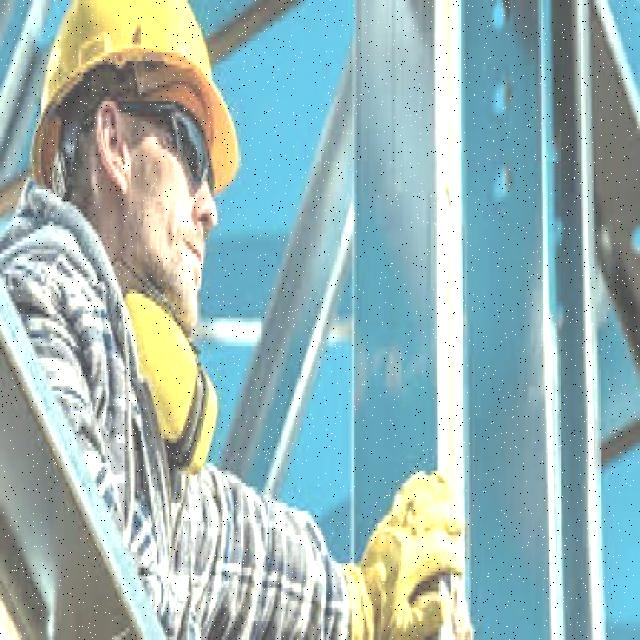Gloves: (37, 0, 251, 149), (348, 454, 470, 636)
